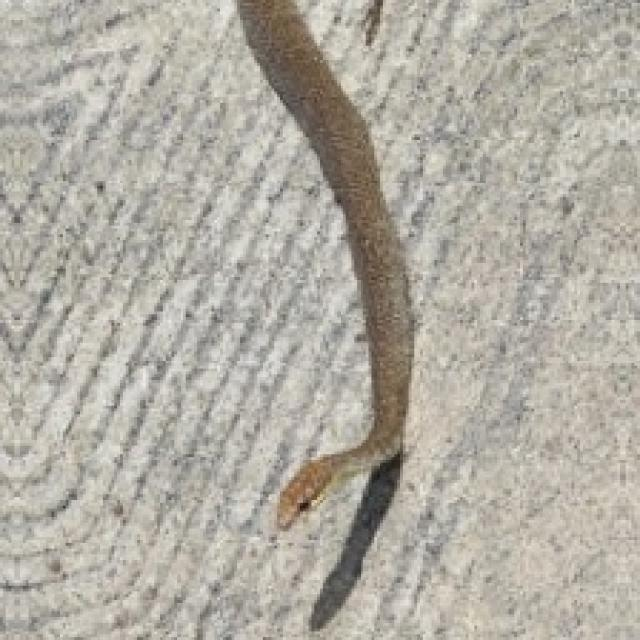paradise tree snake: (237, 0, 411, 526)
